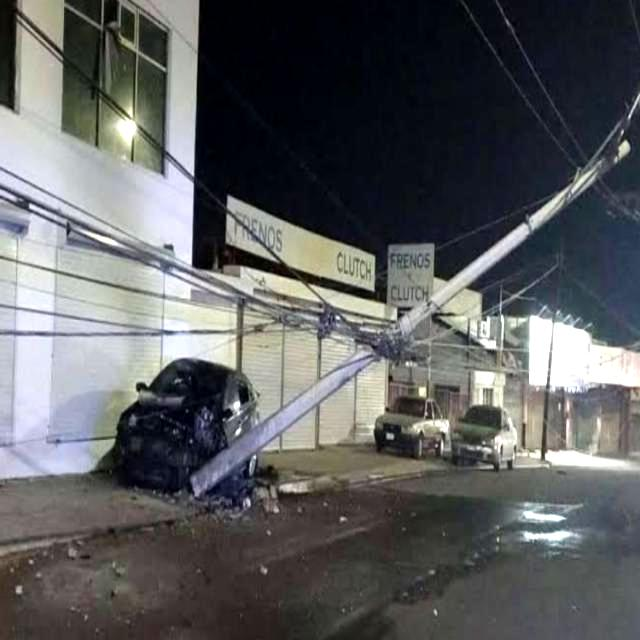Broken Pole: (184, 92, 639, 504)
